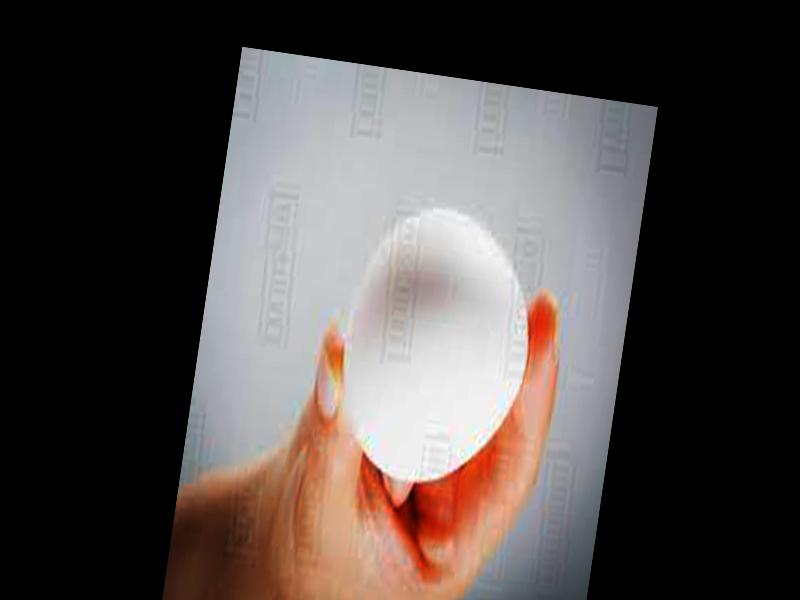Eggs: (330, 198, 546, 493)
